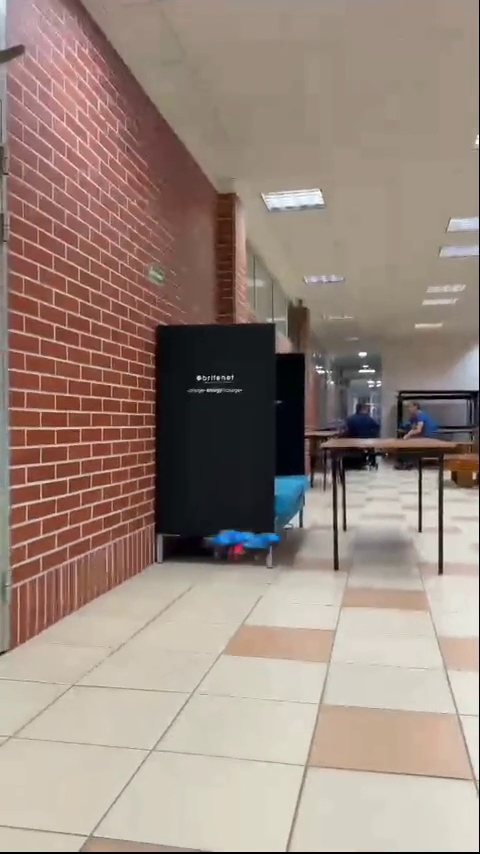drone: (207, 525, 277, 563)
no vest: (339, 393, 382, 444), (396, 401, 439, 448)
